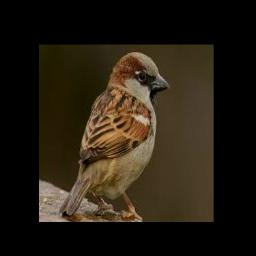Sparrow: (59, 51, 171, 219)
